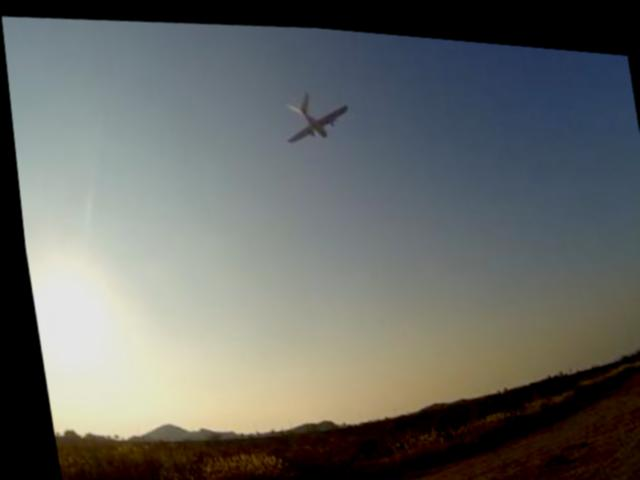uav: (267, 74, 358, 155)
